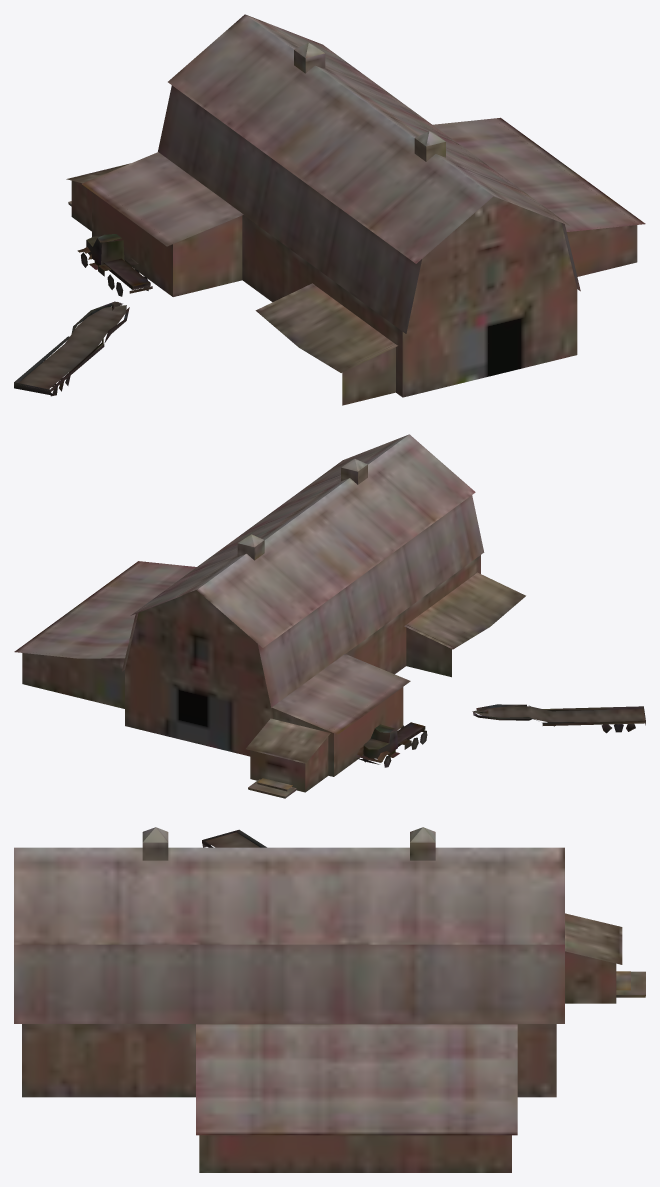
The model's file is stables_b.glb.
3 renders of one model, top to bottom at view 1: azimuth 30°, elevation 25°; view 2: azimuth 150°, elevation 25°; view 3: azimuth 270°, elevation 25°, orthographic. The views are drawn at different scales.
Visible parts, largest first — view 1: stables_b_hlod; view 2: stables_b_hlod; view 3: stables_b_hlod.
Boxes of the visible parts, x1,y1,x2,y2 form: stables_b_hlod: (14, 14, 645, 405); stables_b_hlod: (14, 434, 645, 798); stables_b_hlod: (14, 827, 645, 1172).
Size of the model in its own units: 52.8 by 16.63 by 42.6.
1 material, 1 textured.
